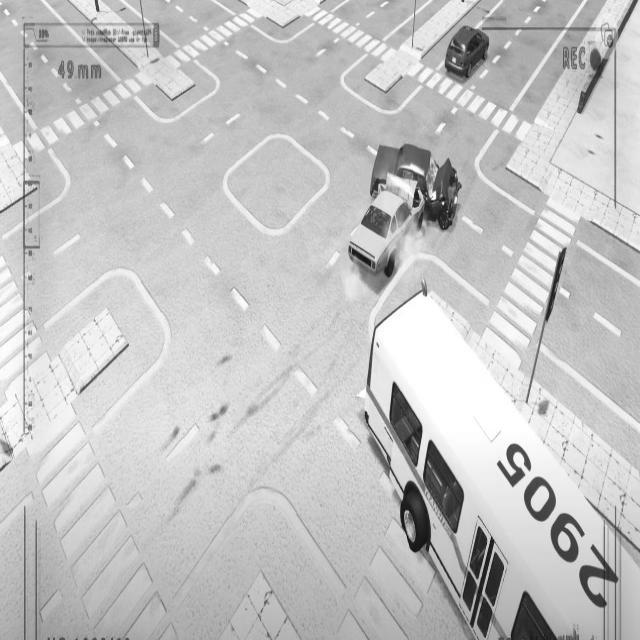accident: (347, 136, 462, 282)
vehicle: (364, 284, 639, 640), (445, 20, 491, 78)
